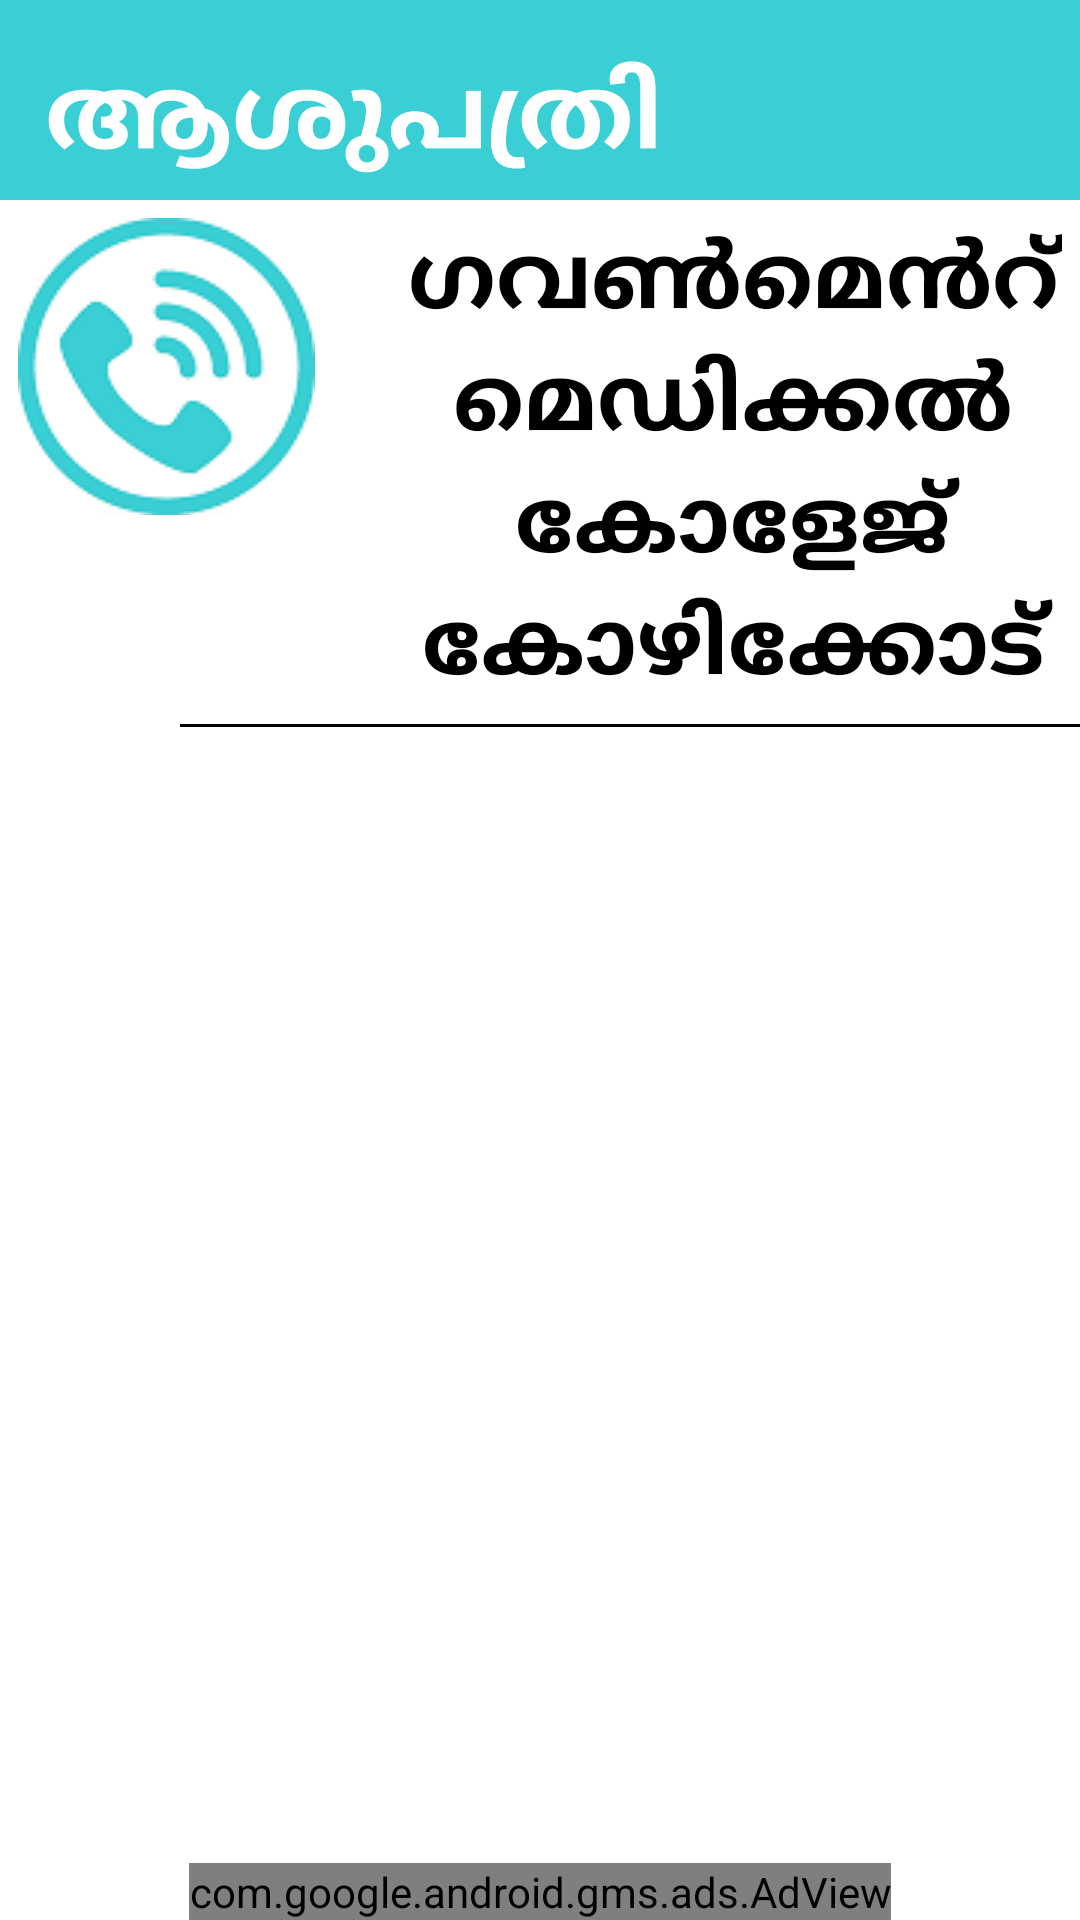

Named icons in this screenshot (1080×1920) and their centers, point (x, y):
call: point (166, 366)
